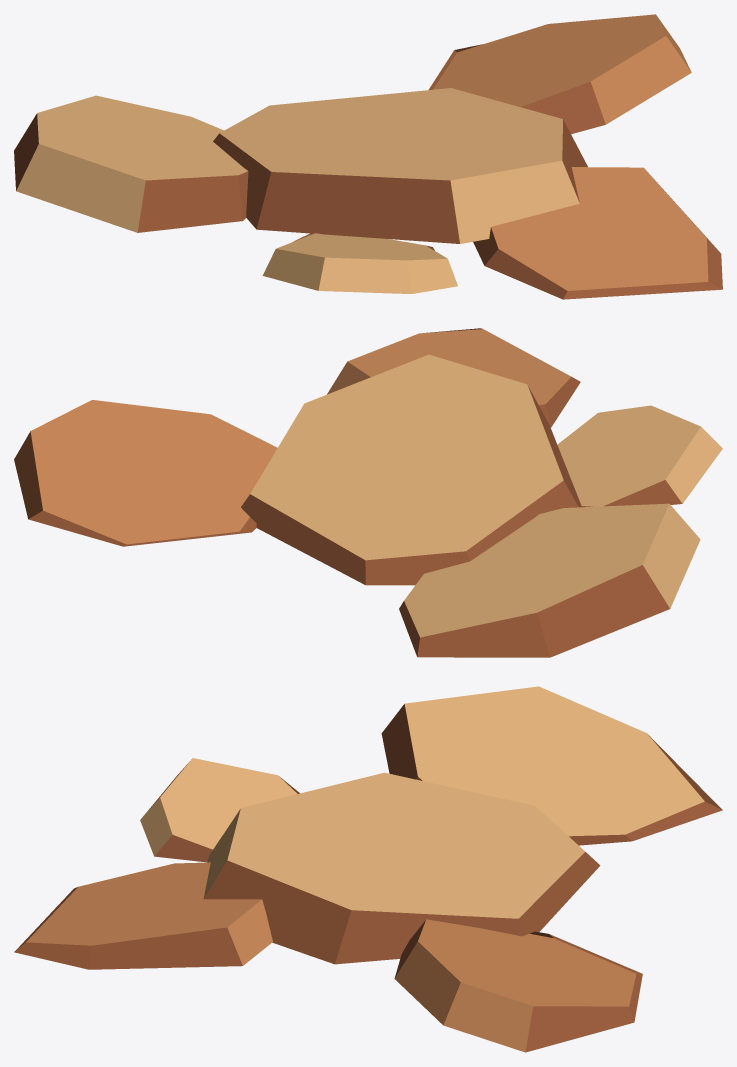
Rendered from rock_slabs.glb.
3 renders of one model, top to bottom at view 1: azimuth 30°, elevation 25°; view 2: azimuth 150°, elevation 25°; view 3: azimuth 270°, elevation 25°, orthographic.
Visible parts, largest first — view 1: rock_slabs; view 2: rock_slabs; view 3: rock_slabs.
Part boxes in pixels (x1,y1,x2,y2): rock_slabs: [14, 14, 722, 299]; rock_slabs: [14, 328, 722, 657]; rock_slabs: [14, 686, 722, 1052].
Size of the model in its own units: 2.79 by 0.2649 by 2.58.
